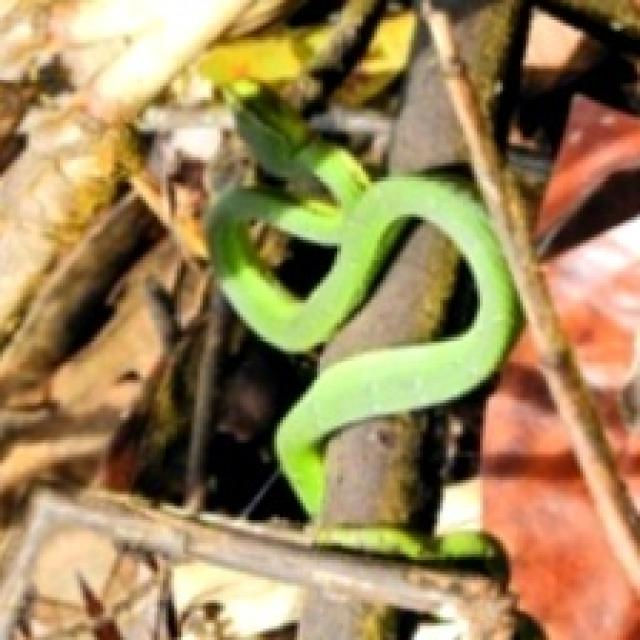north ph temple pitviper: (186, 89, 523, 637)
